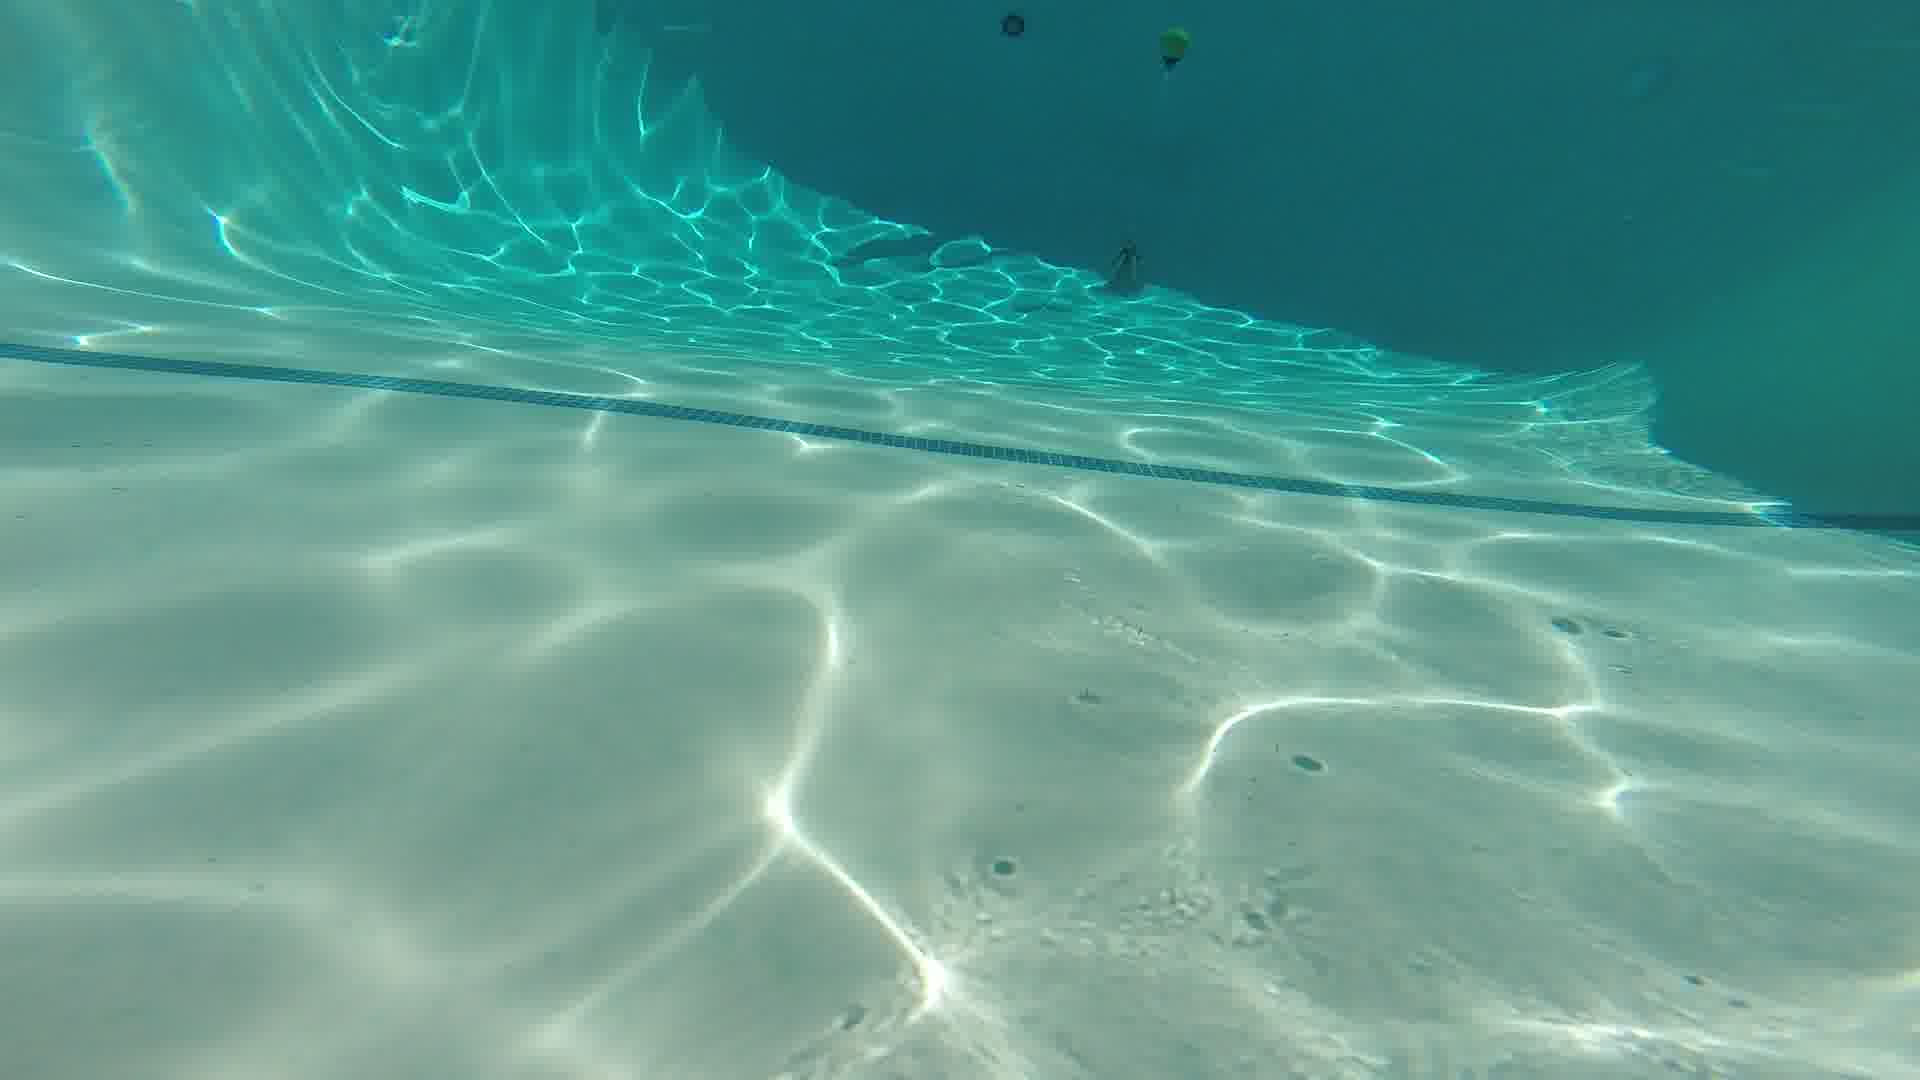yellow_buoy: (1156, 18, 1193, 83)
